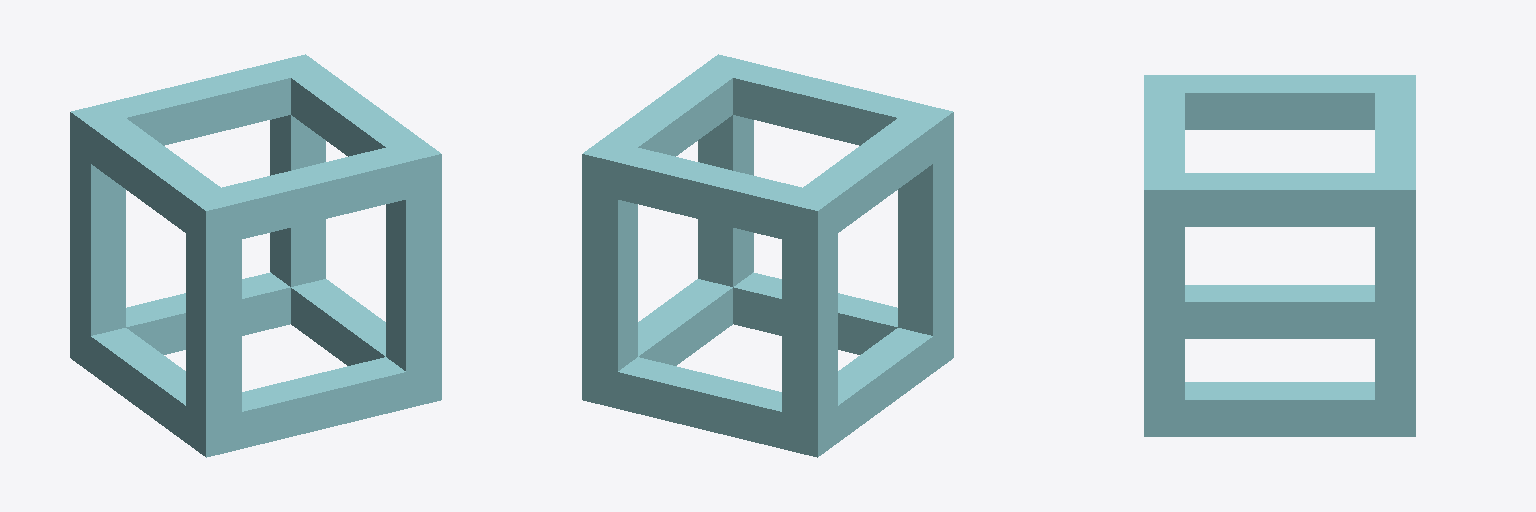
The picture shows the model from 3 angles: view 1: azimuth 30°, elevation 25°; view 2: azimuth 150°, elevation 25°; view 3: azimuth 270°, elevation 25°; orthographic projection.
Parts seen in each view (by area): view 1: HollowCube; view 2: HollowCube; view 3: HollowCube.
Boxes of the visible parts, box(x1,y1,x2,y2) form: HollowCube: box(70, 54, 441, 457); HollowCube: box(582, 54, 953, 457); HollowCube: box(1144, 75, 1415, 436).
Size of the model in its own units: 4 by 4 by 4.
1 materials, 1 textured.